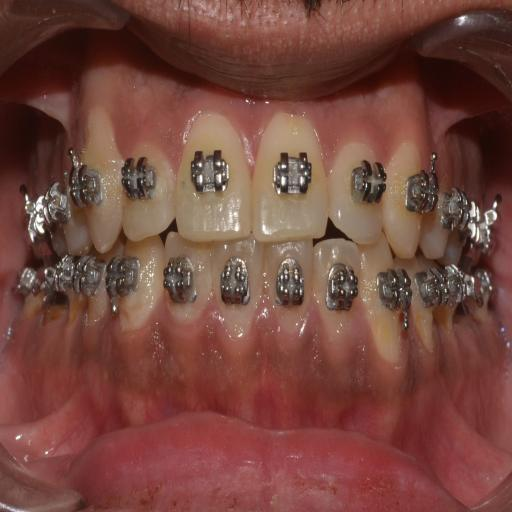correct_brace: (190, 137, 232, 205), (343, 150, 388, 212), (373, 259, 411, 330), (402, 151, 439, 220), (71, 149, 107, 218), (270, 139, 312, 198), (108, 248, 140, 314), (325, 254, 359, 316), (275, 251, 307, 314), (165, 249, 196, 308), (222, 255, 253, 307), (123, 157, 155, 200)
incorrect_brace: (328, 118, 387, 246), (119, 133, 175, 237), (312, 236, 364, 338), (165, 234, 211, 330)
